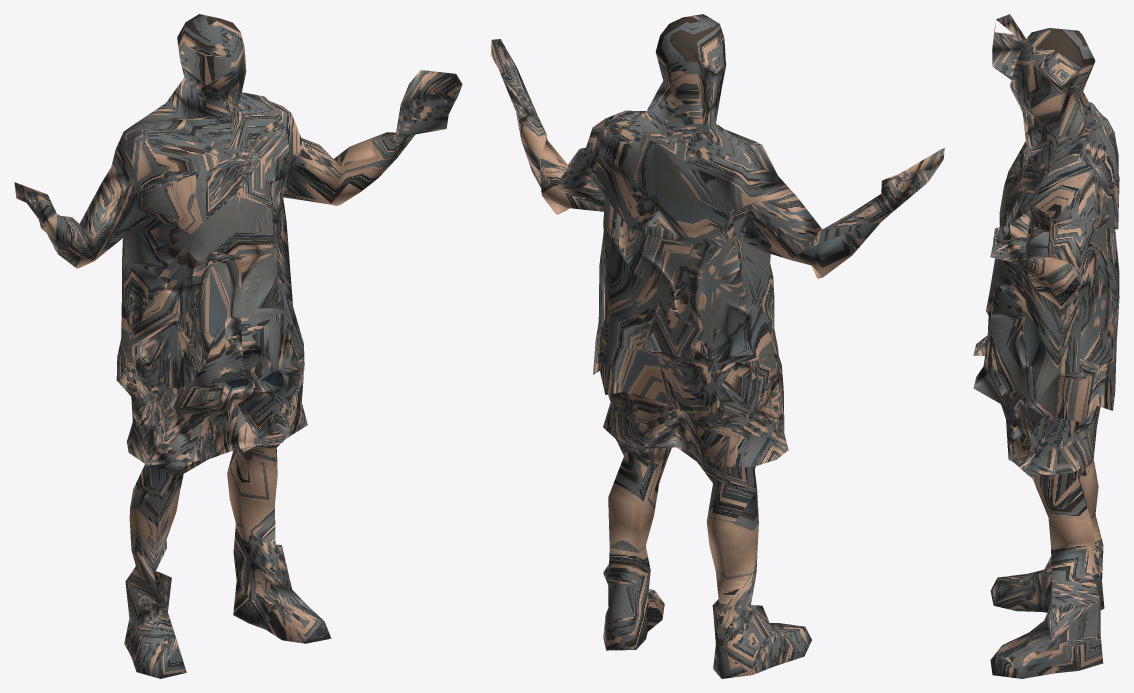
The model's file is aura_hoops_3d_blacktopFanC.12808a2e.glb.
The picture shows the model from 3 angles, left to right: view 1: azimuth 30°, elevation 25°; view 2: azimuth 150°, elevation 25°; view 3: azimuth 270°, elevation 25°; orthographic projection. The views are drawn at different scales.
Bounding box in the file's own units: 1.42 × 1.9 × 0.4145.
Materials: 1 (1 with a texture image).
